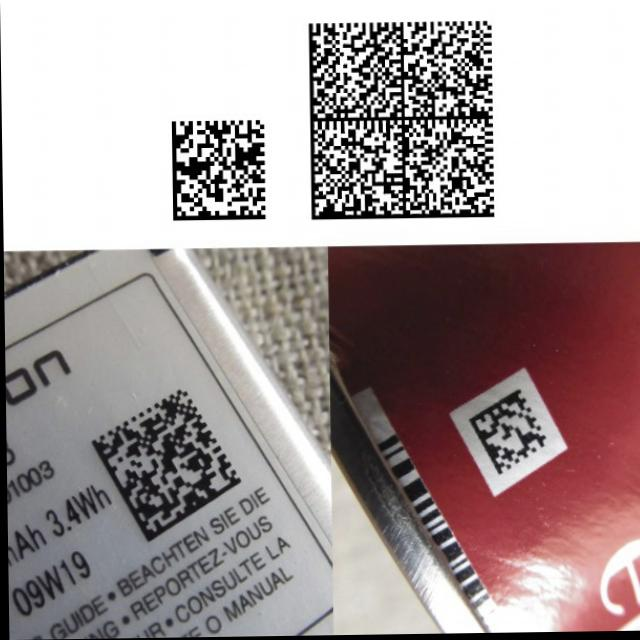datamatrix: (309, 23, 496, 221), (90, 390, 242, 544), (172, 121, 266, 223), (468, 391, 547, 478)
